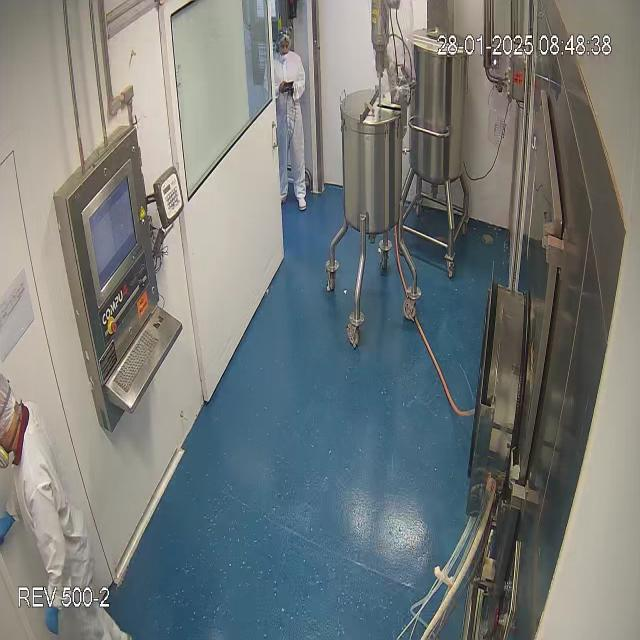bota: (278, 190, 313, 210)
pessoa: (0, 373, 109, 639), (264, 32, 308, 212)
touca: (0, 368, 31, 447), (276, 29, 291, 53)
